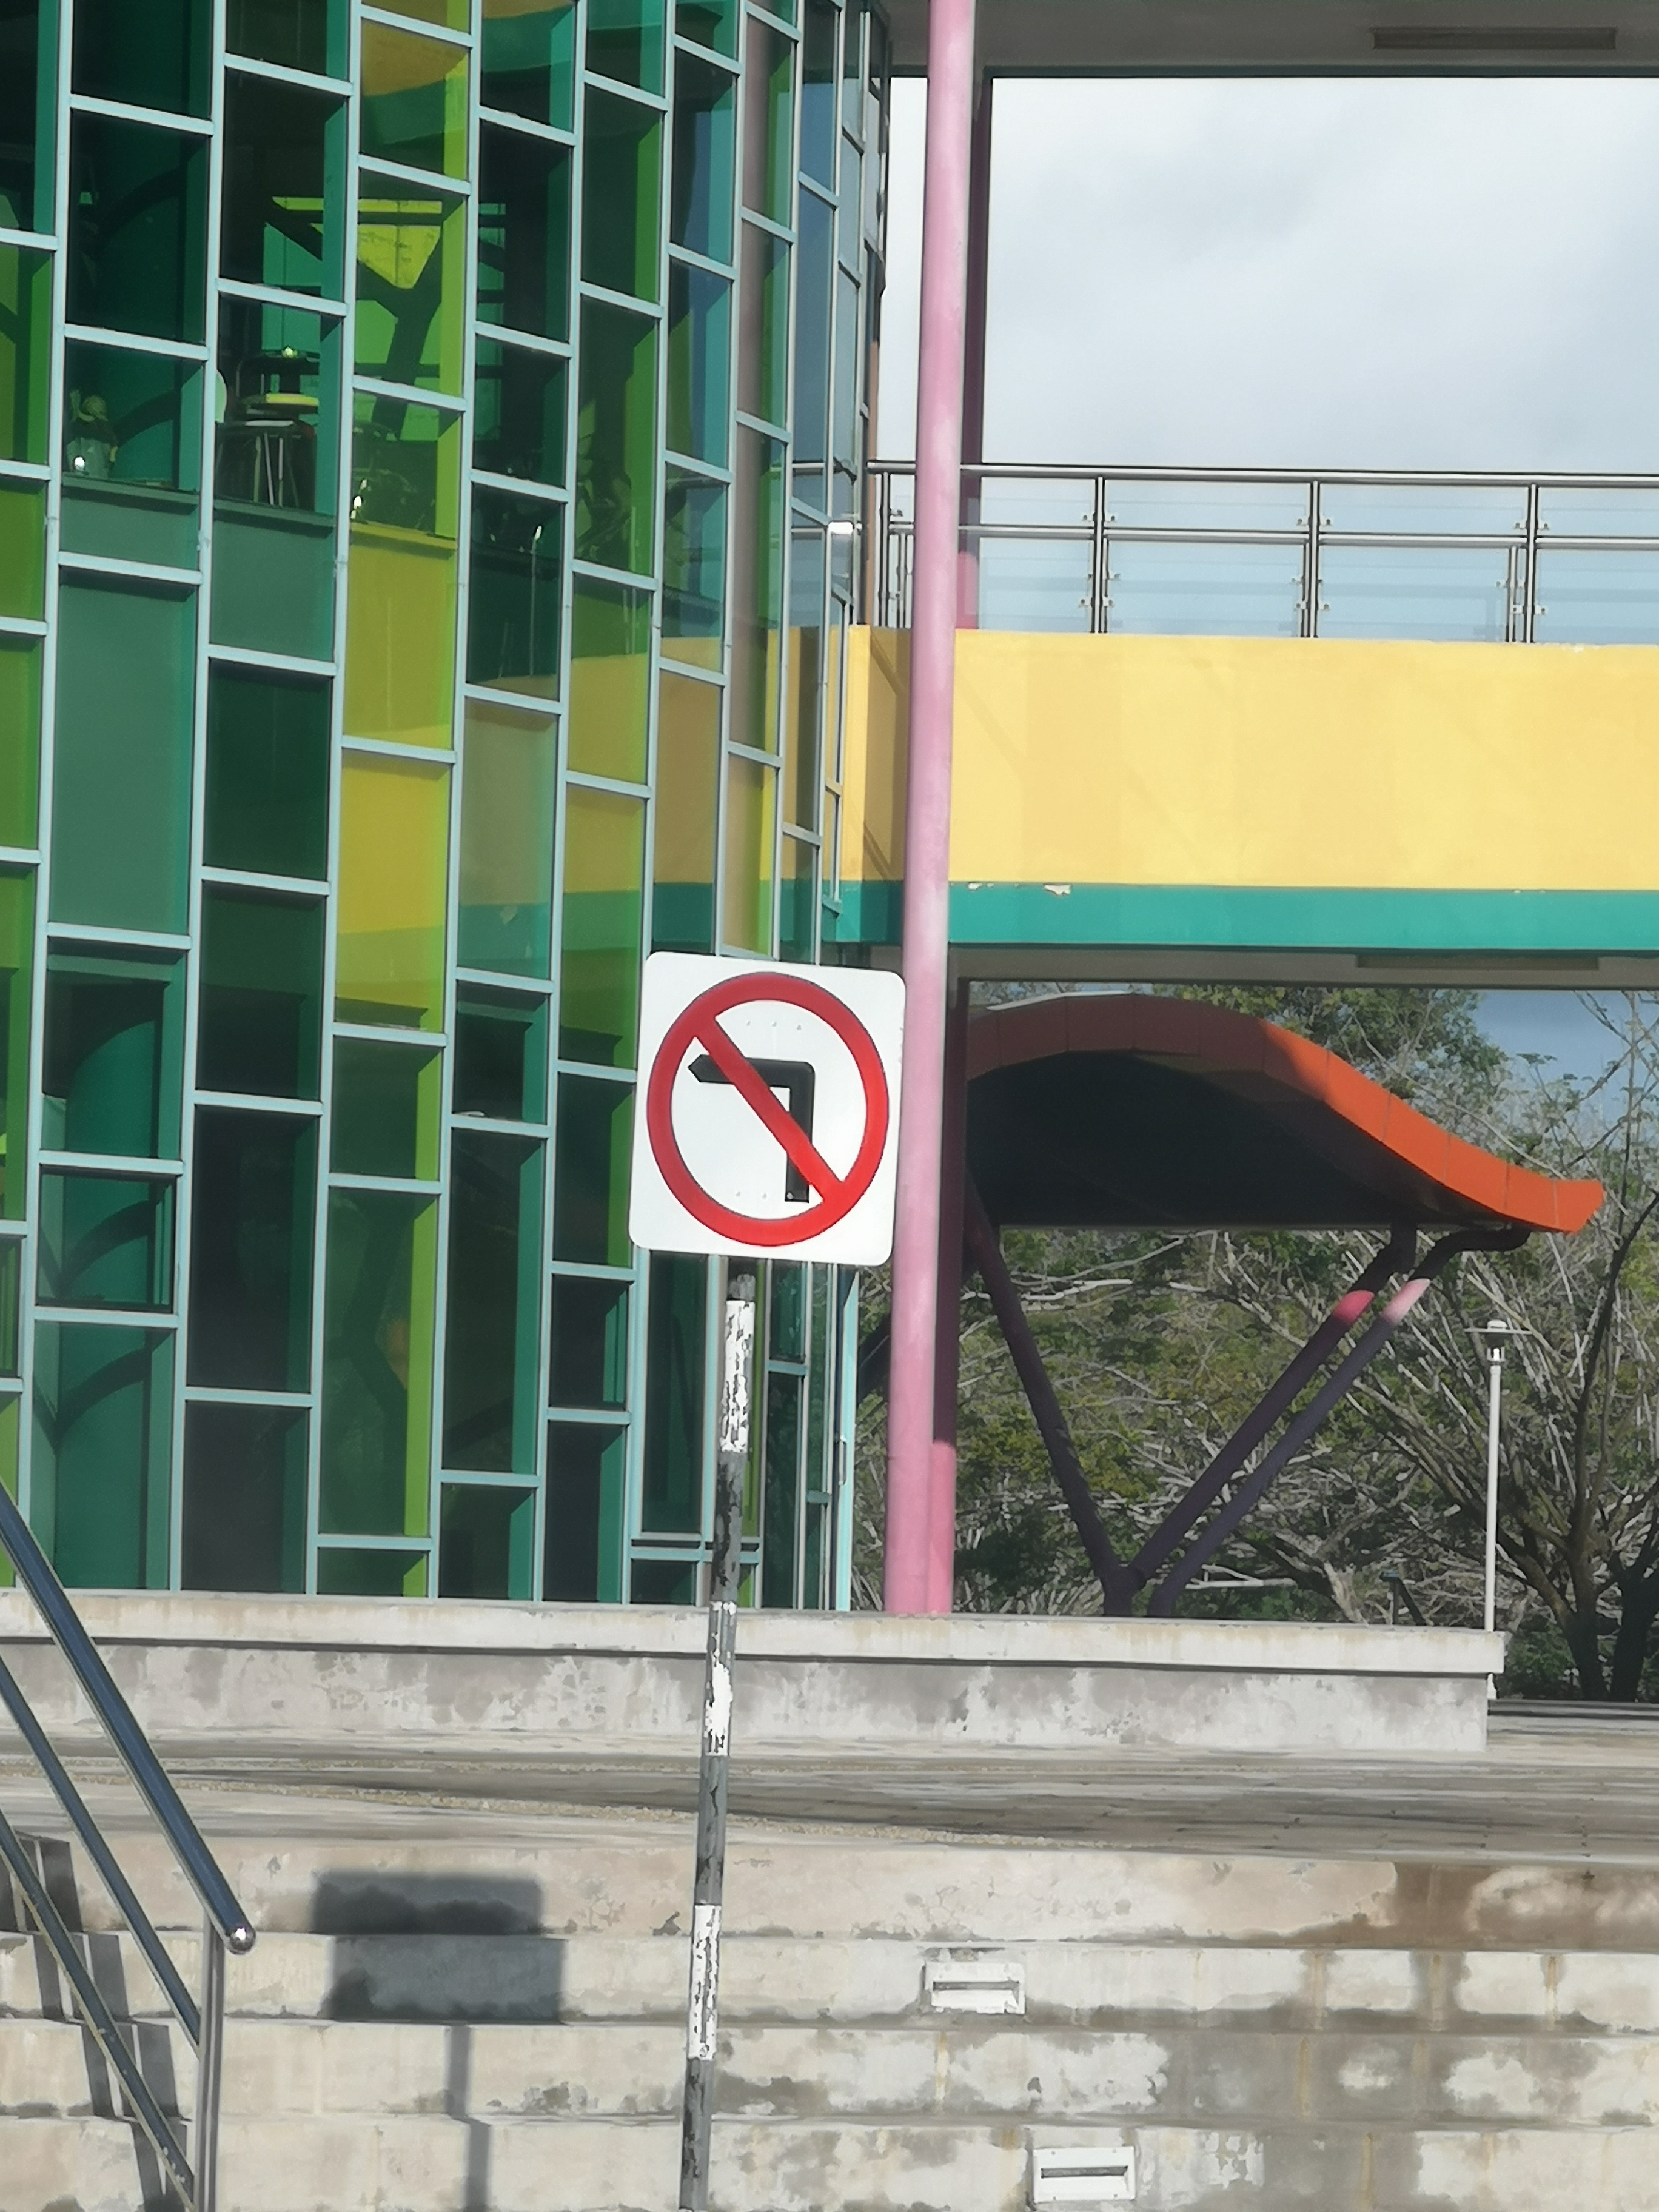no left turn: (634, 958, 915, 1266)
